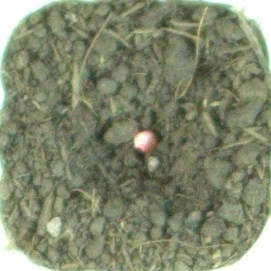pepper seed: (52, 51, 213, 208)
